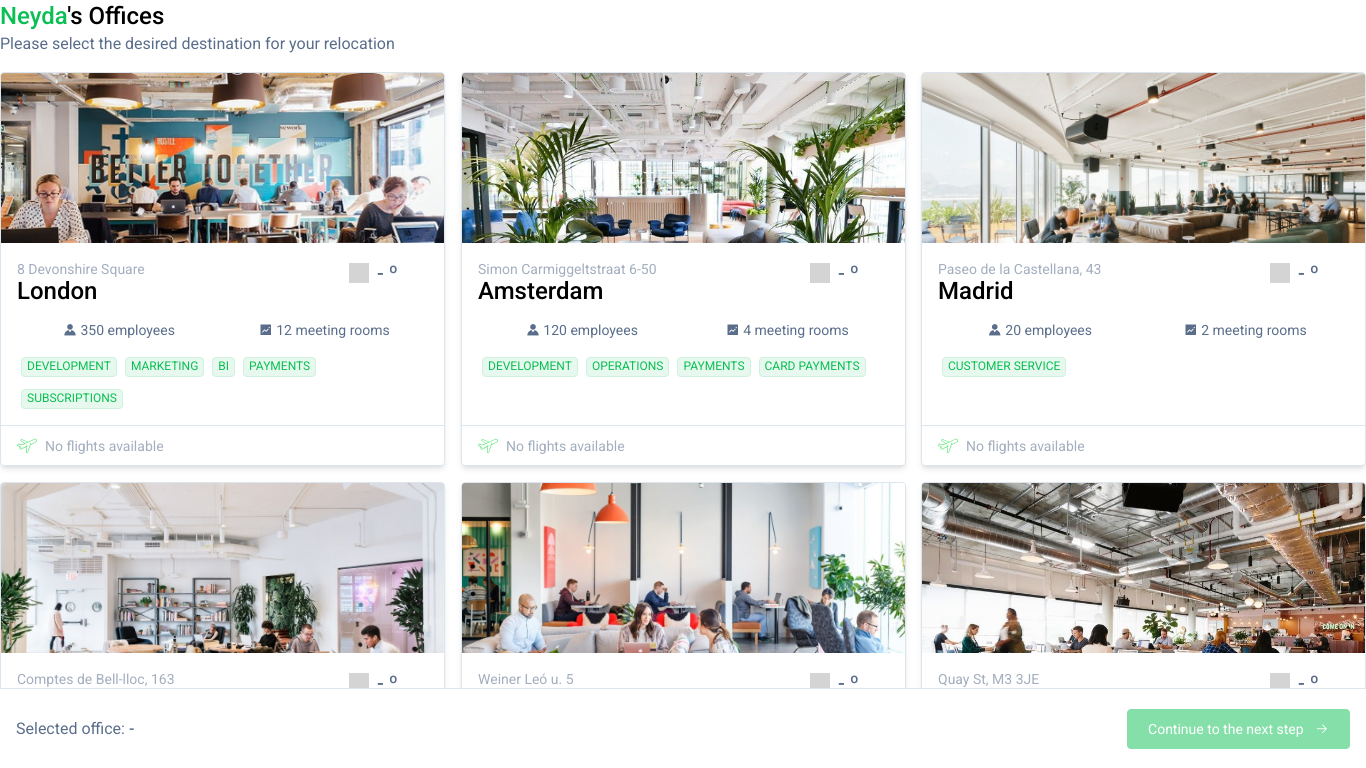
Test: Offices view tests › It prompts the user with a confirmation popup is selected
What coordinates should you click on to do the following:
click the element with test id "office-card" that starts with "8 Devonshire Square"
I would click on:
 (222, 269)
Its box is [0,72,445,466].
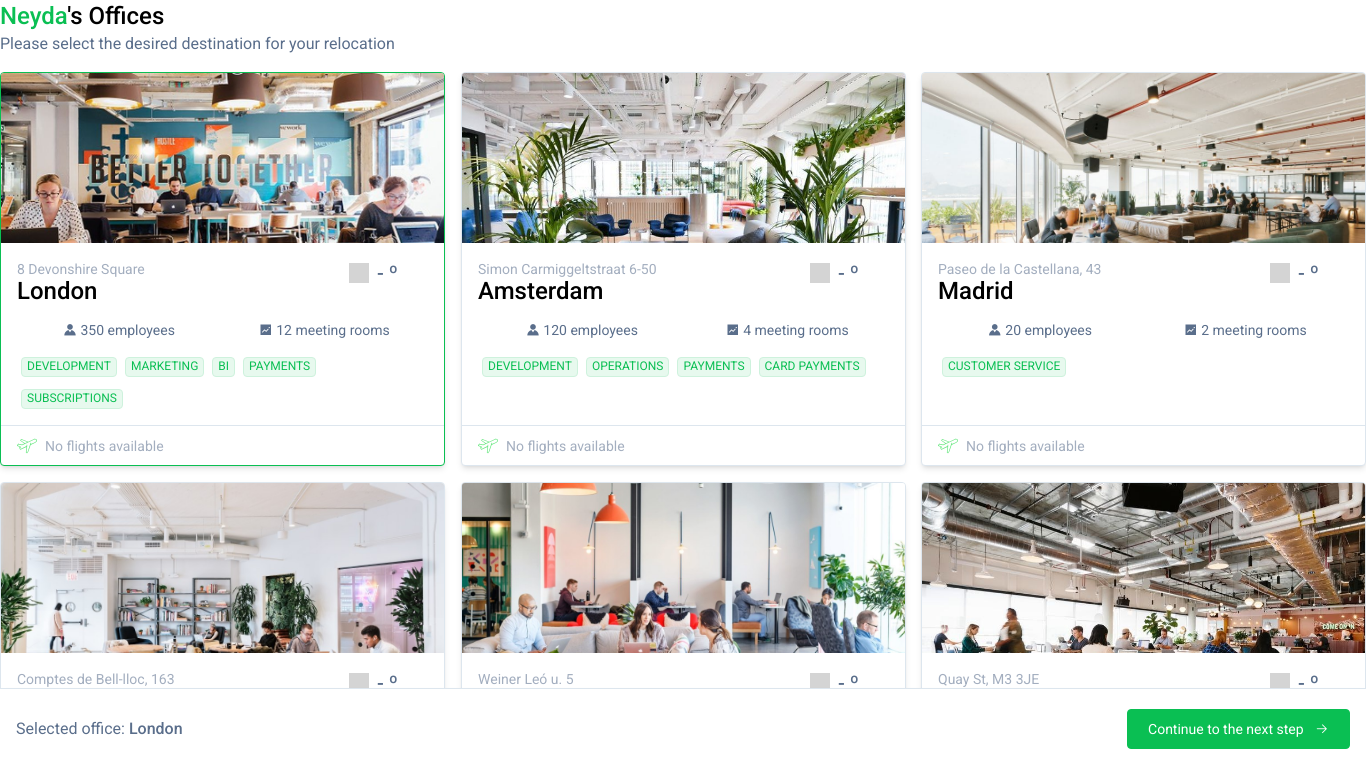
What coordinates should you click on to do the following:
click the button with test id "cta-button"
I would click on:
 (1238, 728)
Its box is [1127,708,1350,748].
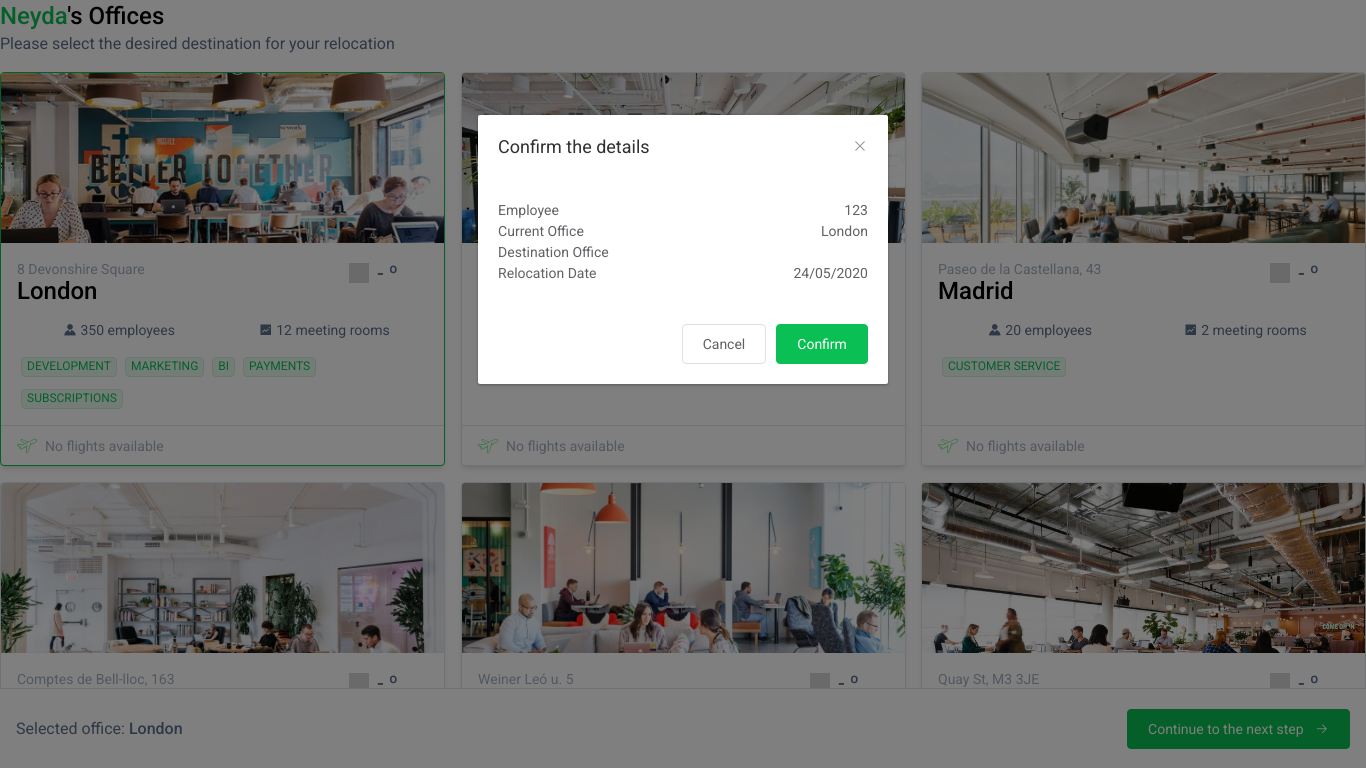
Result: the element with test id "offices-dialog" is shown at [478,115,888,384]
